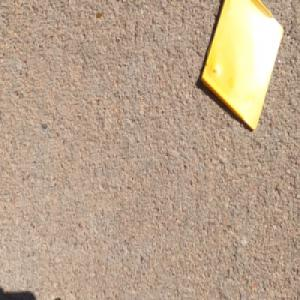PlasticPart: (197, 0, 282, 132)
